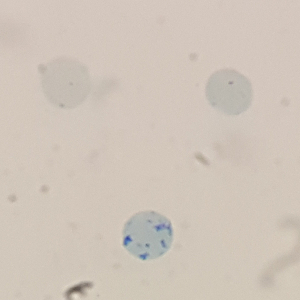aggregate reticulocyte: (120, 208, 176, 262)
punctate reticulocyte: (38, 56, 92, 111), (203, 68, 254, 118)
